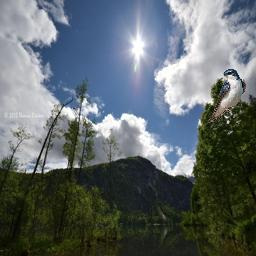Swallow: (207, 68, 246, 124)
